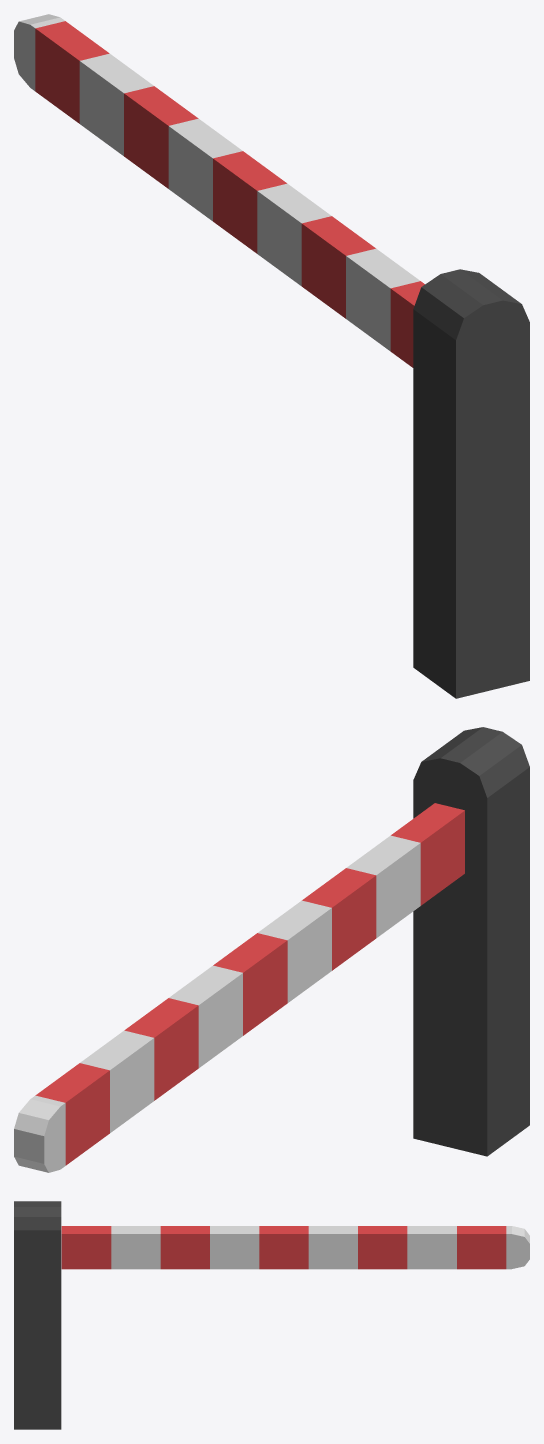
File: road_barrier_breakable.fbx
3 renders of one model, top to bottom at view 1: azimuth 30°, elevation 25°; view 2: azimuth 150°, elevation 25°; view 3: azimuth 270°, elevation 25°, orthographic. The views are drawn at different scales.
Visible parts, largest first — view 1: shlag, baum, shlag_cell.001, shlag_cell_cell, shlag_cell.002, shlag_cell_cell.001, baum.002; view 2: shlag, baum, shlag_cell.001, shlag_cell.002, shlag_cell_cell.001, baum.002, shlag_cell_cell, baum.001, baum.003; view 3: baum, shlag, shlag_cell.001, shlag_cell.002, baum.002, shlag_cell_cell, baum.001.
Boxes of the visible parts, box(x1,y1,x2,y2) form: shlag: box(413, 269, 529, 698); baum: box(14, 14, 424, 367); shlag_cell.001: box(413, 508, 529, 698); shlag_cell_cell: box(434, 321, 529, 543); shlag_cell.002: box(415, 269, 529, 365); shlag_cell_cell.001: box(413, 307, 435, 537); baum.002: box(137, 102, 308, 253); shlag: box(413, 728, 529, 1156); baum: box(14, 803, 464, 1172); shlag_cell.001: box(413, 971, 529, 1155); shlag_cell.002: box(413, 727, 527, 816); shlag_cell_cell.001: box(414, 778, 508, 1019); baum.002: box(146, 917, 315, 1091); shlag_cell_cell: box(507, 768, 529, 995); baum.001: box(280, 901, 331, 982); baum.003: box(126, 1014, 175, 1099); baum: box(61, 1226, 529, 1269); shlag: box(14, 1216, 61, 1429); shlag_cell.001: box(14, 1334, 61, 1429); shlag_cell.002: box(14, 1201, 61, 1254); baum.002: box(230, 1226, 393, 1269); shlag_cell_cell: box(14, 1254, 37, 1337); baum.001: box(210, 1226, 234, 1268).
Bounding box in the file's own units: 200 × 1000 × 2173.
